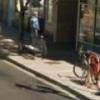bicycles: (73, 44, 100, 90)
